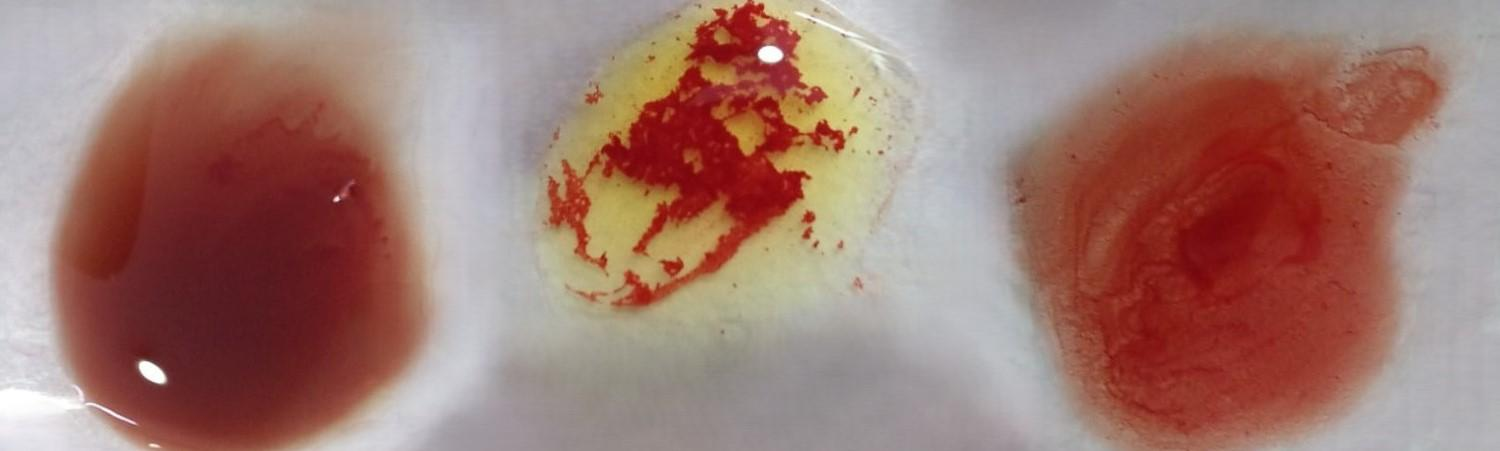B: (546, 12, 907, 325)
D: (1049, 46, 1401, 451)
